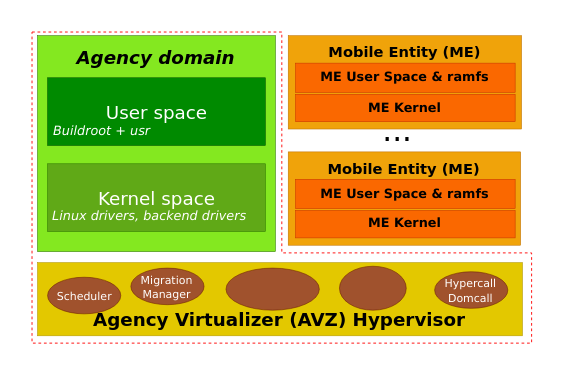
The diagram is 564 pixels wide and 375 high, and some of its shapes have lost their labels. Here are the shapes that lost their labels. From the top down, the centre of each, then its label:
At pixel 272 288: "Agency & ME Setup".
At pixel 372 287: "Memory Manager".
